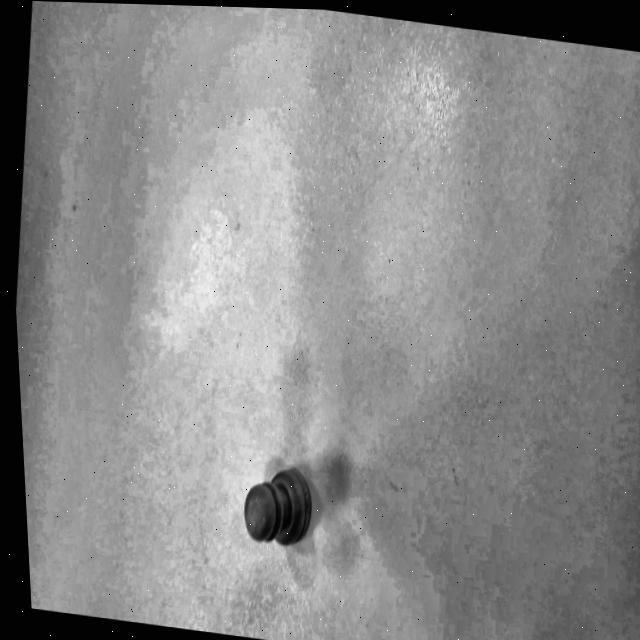white-pawn: (229, 444, 346, 571)
